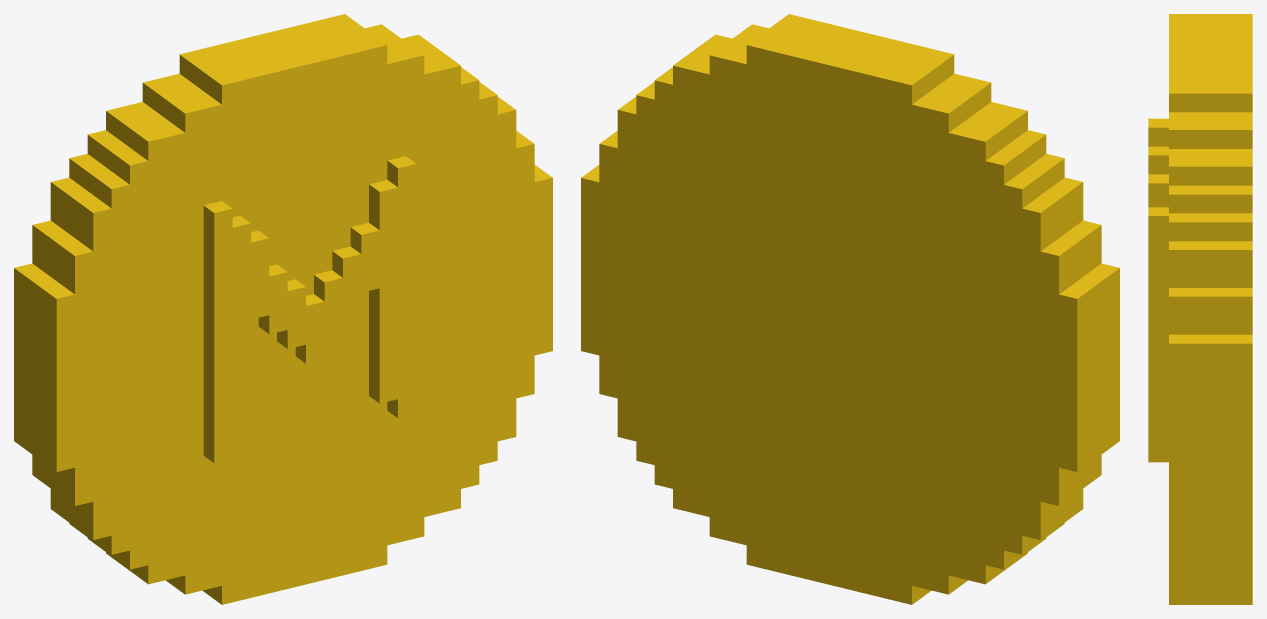
File: money_animation.fbx
3 renders of one model, left to right at view 1: azimuth 30°, elevation 25°; view 2: azimuth 150°, elevation 25°; view 3: azimuth 270°, elevation 25°, orthographic.
Parts seen in each view (by area): view 1: Circle; view 2: Circle; view 3: Circle.
Part boxes in pixels (x1,y1,x2,y2): Circle: [14, 14, 552, 604]; Circle: [581, 14, 1119, 604]; Circle: [1148, 14, 1252, 604].
Bounding box in the file's own units: 184 × 184 × 34.02.
1 material, 1 textured.
